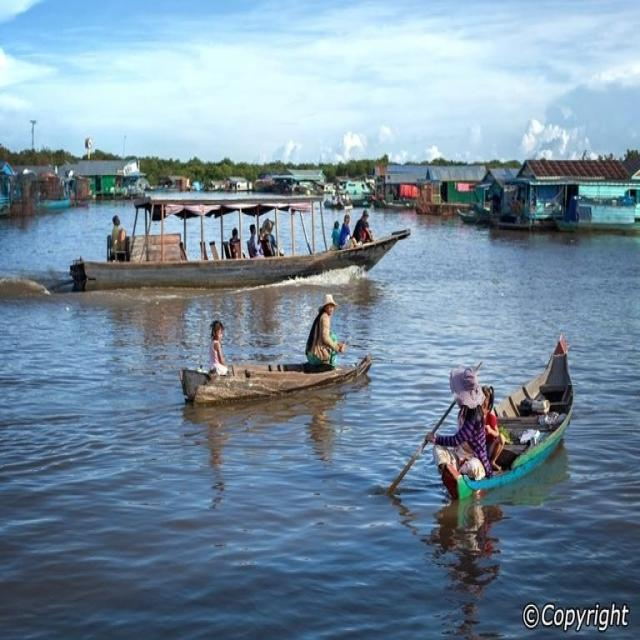boat: (442, 332, 580, 499), (64, 233, 412, 290), (174, 348, 376, 405)
